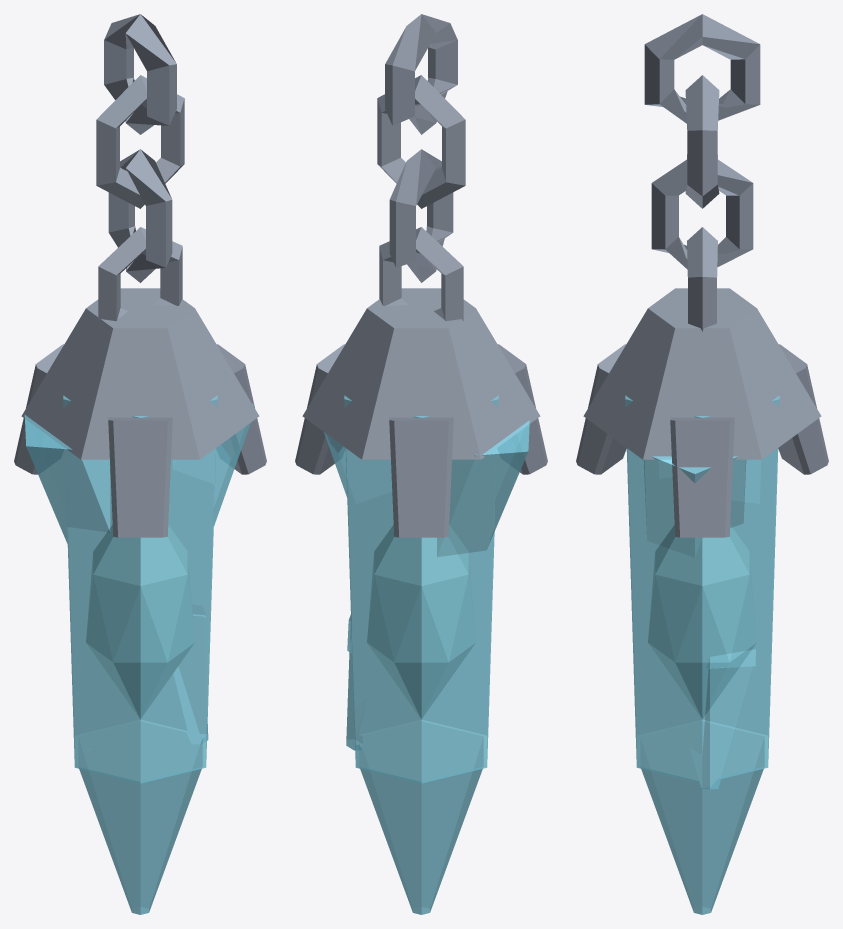
The model's file is FrostCrystal.fbx.
3 renders of one model, left to right at view 1: azimuth 30°, elevation 25°; view 2: azimuth 150°, elevation 25°; view 3: azimuth 270°, elevation 25°, orthographic.
Visible parts, largest first — view 1: Body, Clasp, Chain, Neon; view 2: Body, Clasp, Chain, Neon; view 3: Body, Clasp, Chain, Neon.
Part boxes in pixels (x1,y1,x2,y2): Body: (24, 395, 253, 914); Clasp: (14, 227, 266, 537); Chain: (96, 14, 184, 282); Neon: (86, 525, 194, 719); Body: (324, 395, 529, 914); Clasp: (295, 227, 547, 537); Chain: (377, 14, 465, 282); Neon: (367, 525, 475, 719); Body: (625, 395, 779, 914); Clasp: (576, 227, 828, 537); Chain: (644, 14, 760, 269); Neon: (648, 525, 756, 719).
Bounding box in the file's own units: 0.1052 × 0.3989 × 0.102.
